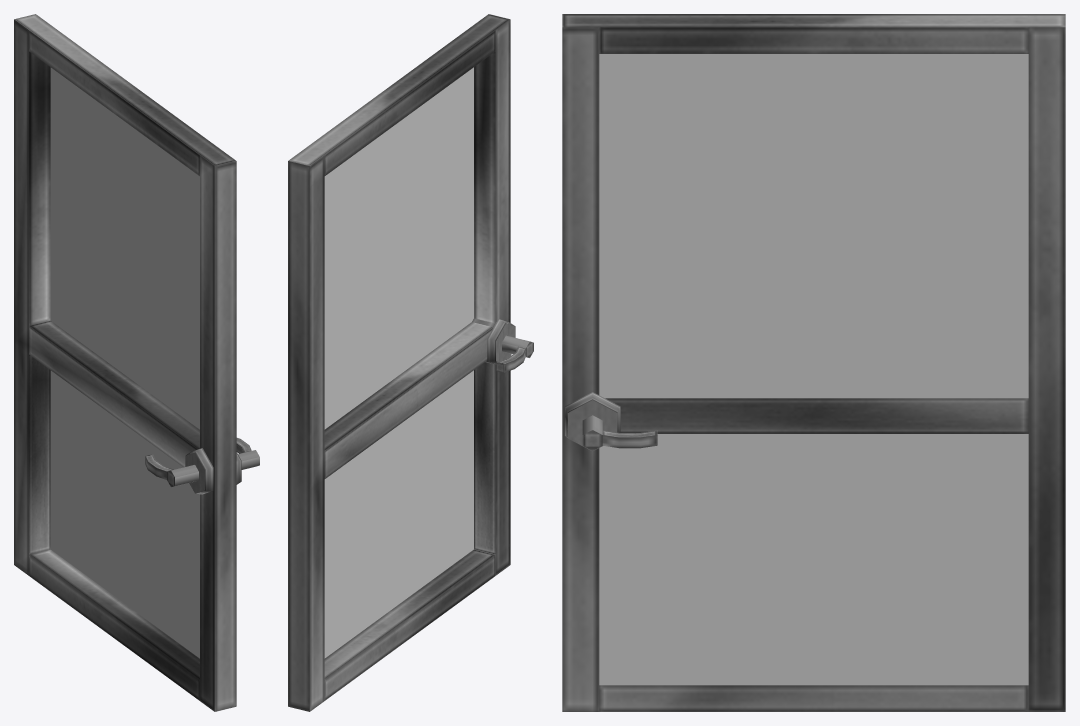
File: SM_Door_Glass_01.fbx
3 renders of one model, left to right at view 1: azimuth 30°, elevation 25°; view 2: azimuth 150°, elevation 25°; view 3: azimuth 270°, elevation 25°, orthographic. The views are drawn at different scales.
Visible parts, largest first — view 1: SM_Door_Glass_01; view 2: SM_Door_Glass_01; view 3: SM_Door_Glass_01.
Boxes of the visible parts, x1,y1,x2,y2 form: SM_Door_Glass_01: (14,14,259,711); SM_Door_Glass_01: (288,14,533,711); SM_Door_Glass_01: (562,14,1065,711).
Size of the model in its own units: 42.78 by 240 by 160.
